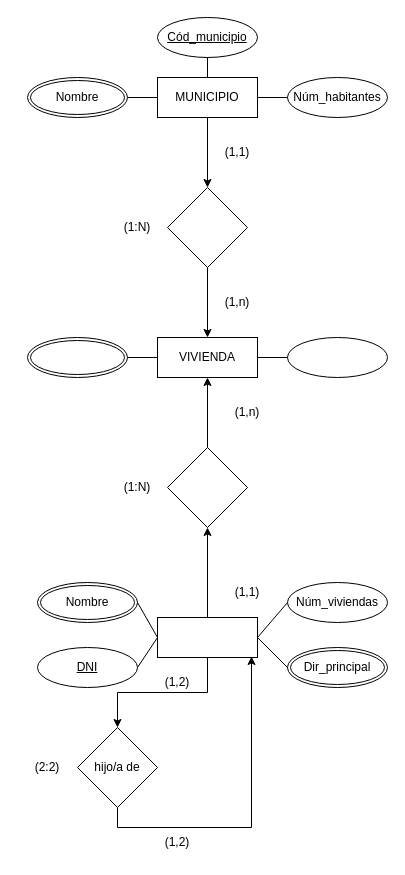
Some shapes in this 405 by 875 pixel diagram are drawn without their labels. Here are the shapes that lost their labels. From the top down, the centre of each, then its label:
At [207,227]: "hay".
At [77,357]: "Dirección".
At [337,357]: "Metros cuadrados".
At [207,487]: "tiene".
At [207,637]: "PERSONA".
